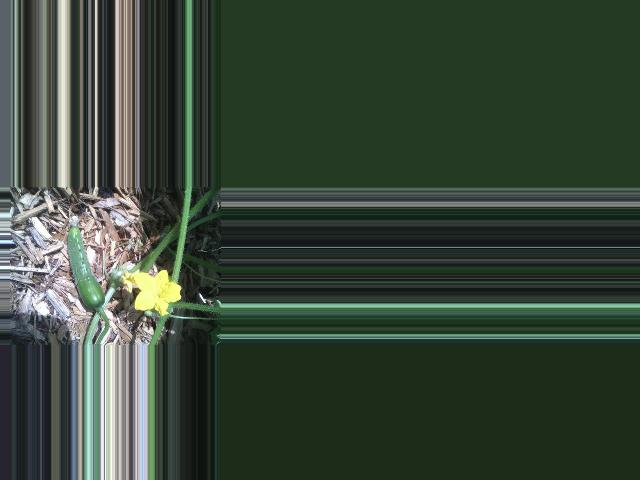cucumber: (66, 218, 105, 310)
